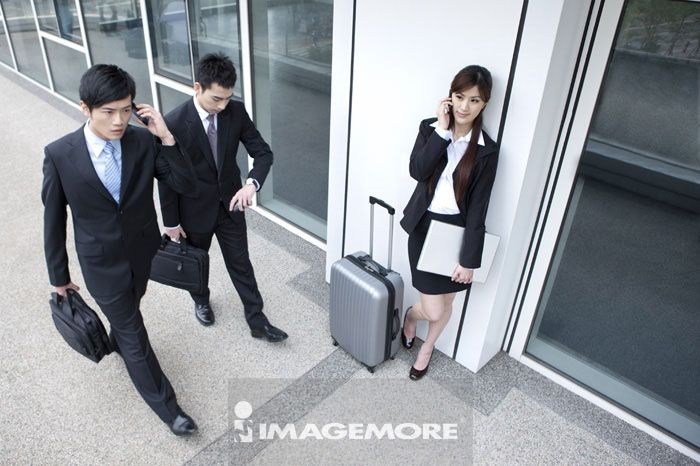talk: (97, 99, 169, 143), (437, 88, 482, 133)
